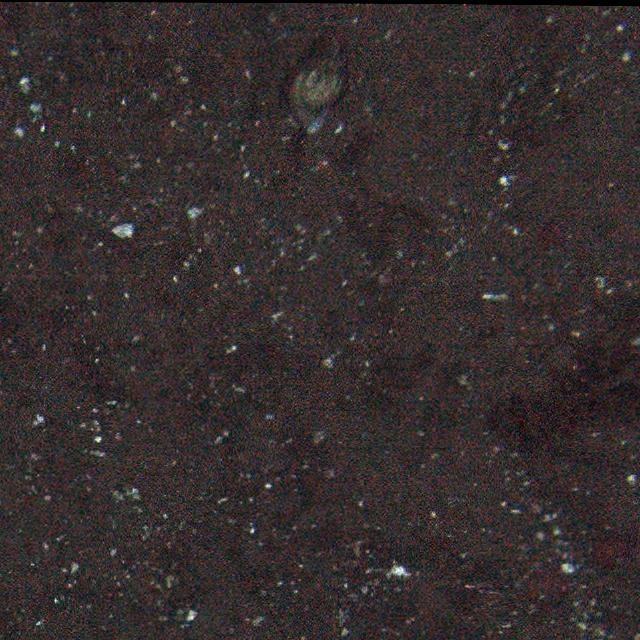whelk: (294, 36, 346, 130)
